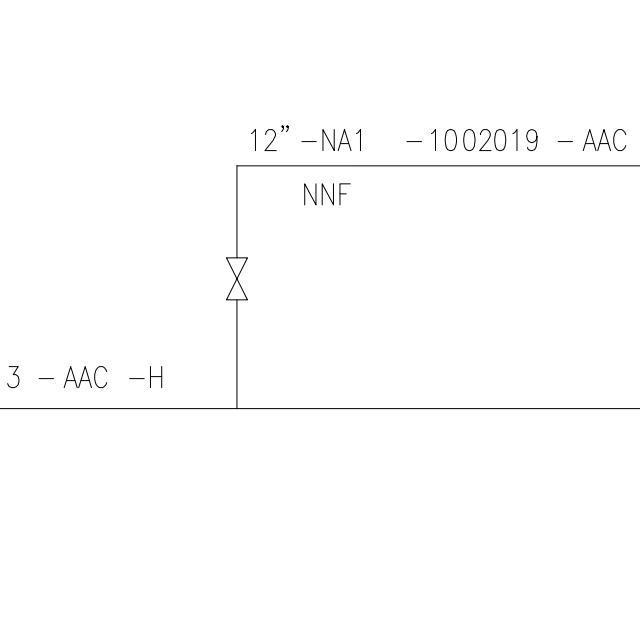GV: (220, 256, 254, 306)
